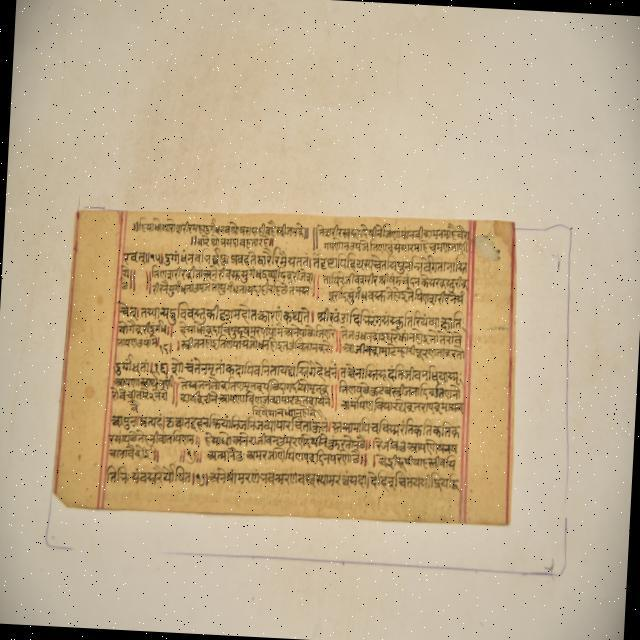text_paragraph: (54, 208, 513, 521)
